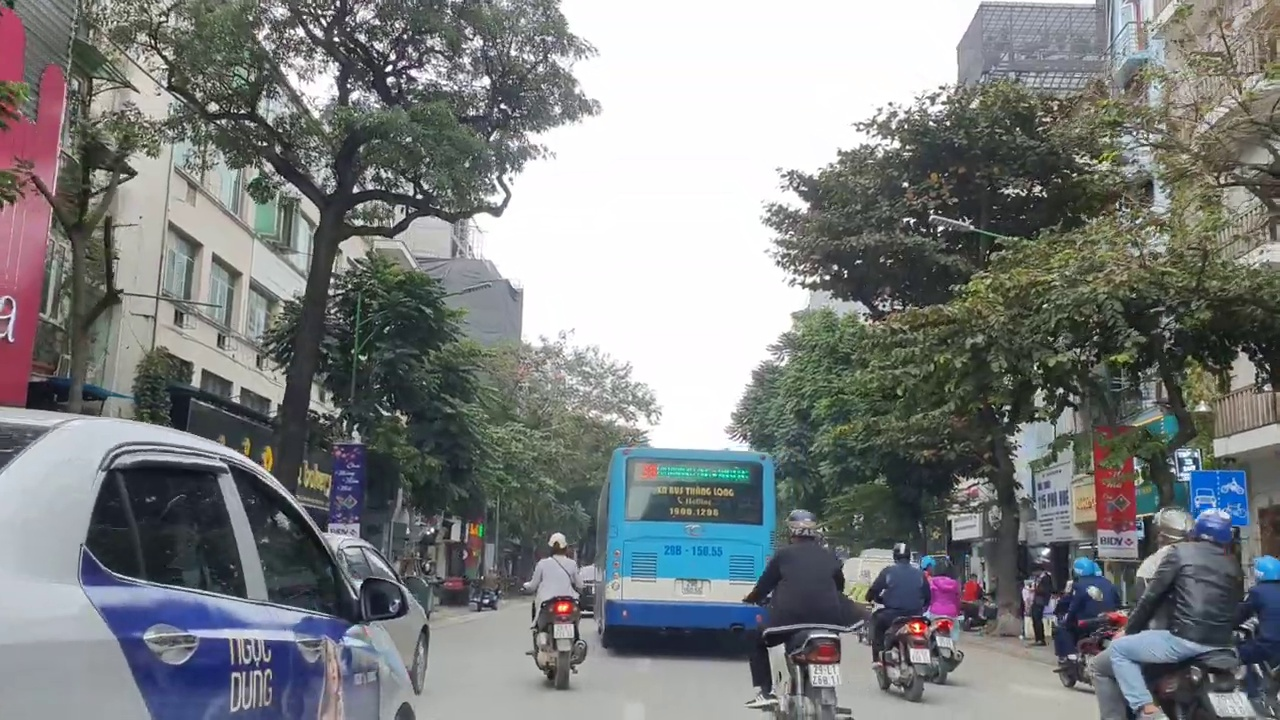vehicle-plate: (805, 653, 848, 696), (547, 612, 582, 647), (905, 640, 936, 673)
